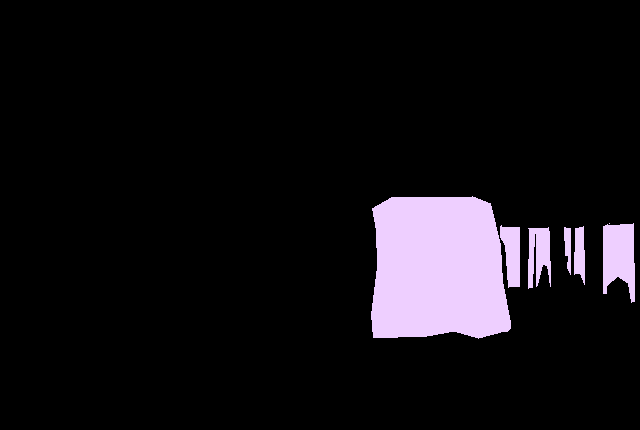Train: (371, 196, 511, 339), (500, 223, 634, 302)
